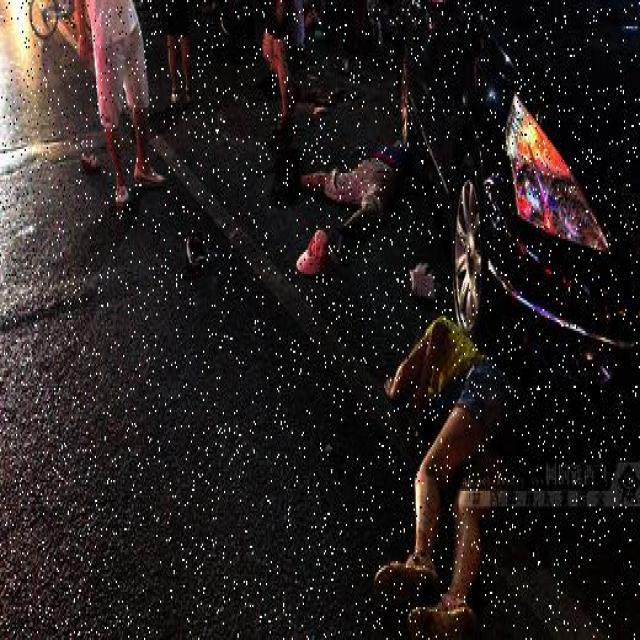fall: (371, 296, 512, 629), (301, 120, 421, 250)
